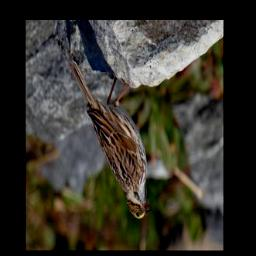Sparrow: (69, 56, 152, 221)
